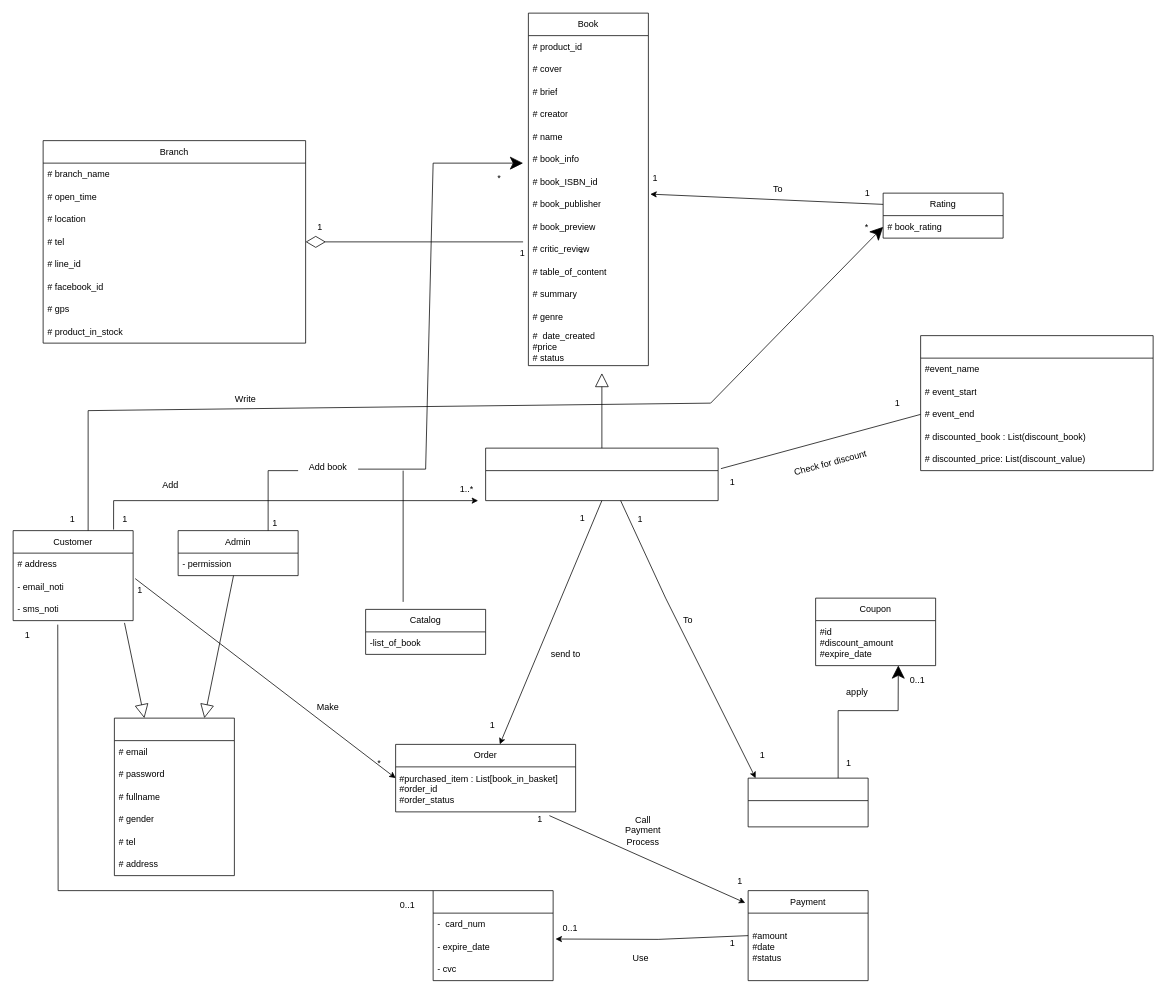
Image size: 1166x1001. Some labels were removed from this diagram. The shapes that lost their labels are listed below. From the top down, each one's box as (x1, y1, x2, y2) in pixels, then its label:
(920, 335, 1153, 471): EventDiscount
(485, 447, 718, 501): BookItem
(114, 717, 234, 876): UserAccount
(747, 777, 868, 827): Basket
(432, 890, 553, 981): CreditCard
